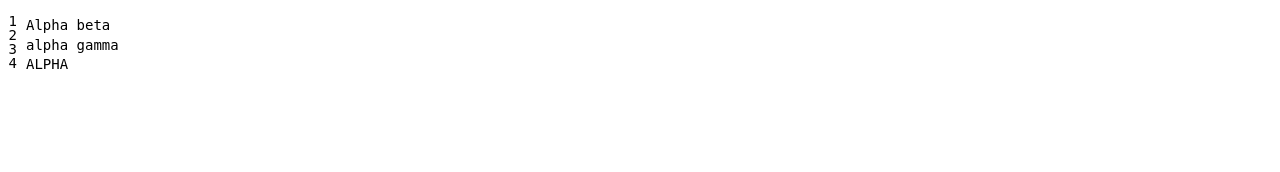
Test: find in a file (#946) › opens the bar on the key, marks every match in any case, and counts them
The image size is (1280, 172).
Press f in the field with class "cm-content", box [26,17,119,72]
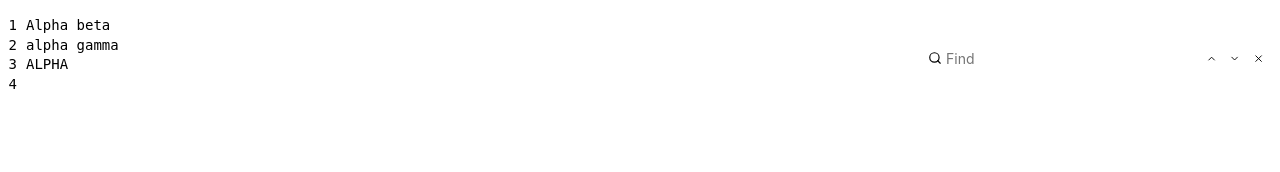
Now the element named "Find in notes.txt" is shown, box [919,41,1272,75]
Type "alpha" into the search field labelled "Find".
click(1020, 58); type("alpha")  # box [922,44,1118,72]
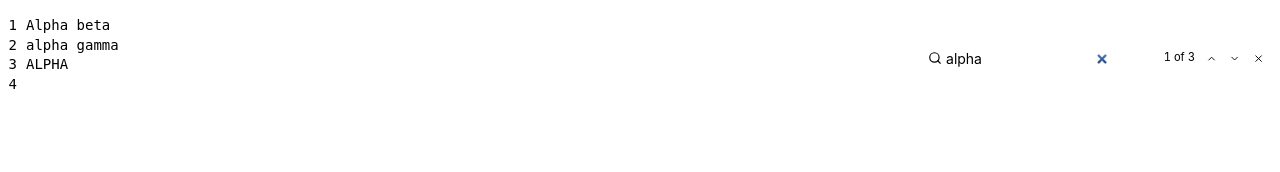
Now the message reads "1 of 3", box [1164,50,1195,64]
